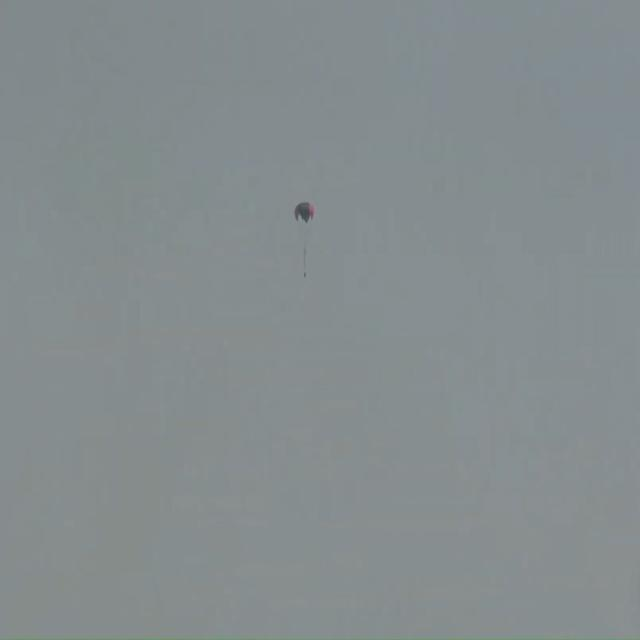Rocket: (304, 248, 306, 278)
